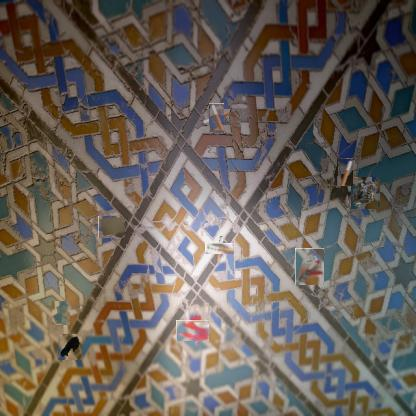dirty: (295, 248, 324, 285), (349, 178, 379, 208), (58, 334, 82, 360), (98, 216, 125, 238), (205, 106, 228, 129), (337, 158, 353, 186), (209, 239, 230, 258)
liquid: (179, 317, 206, 344), (52, 301, 70, 325)
